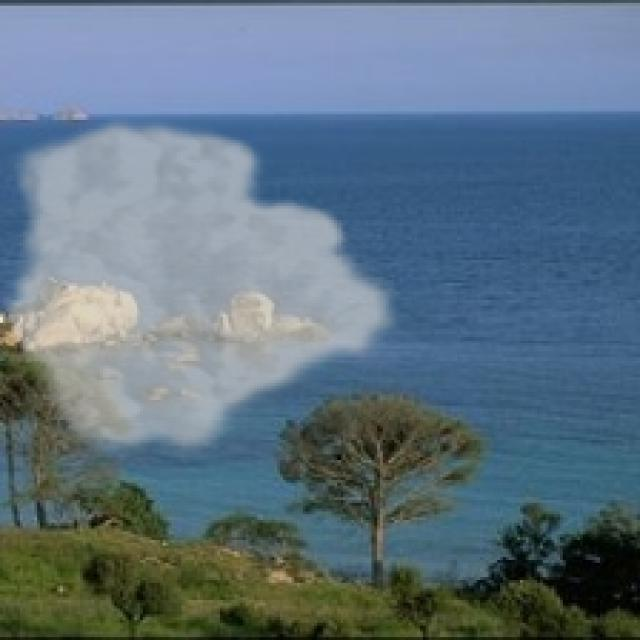smoke: (0, 114, 403, 463)
